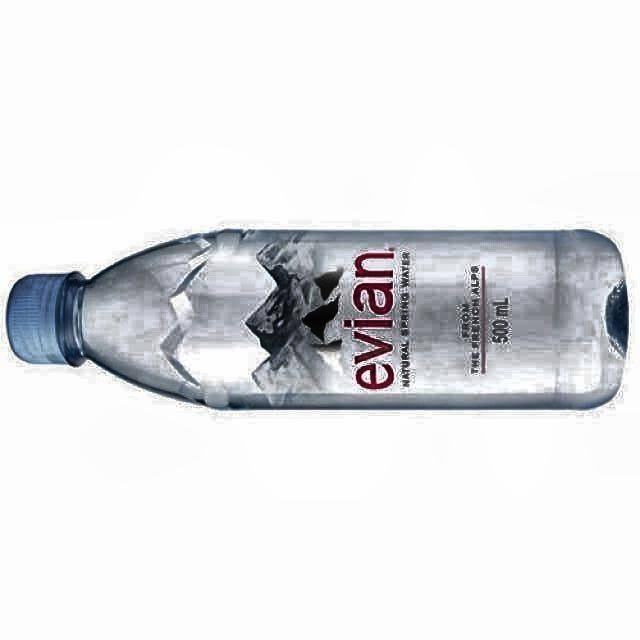plastic: (8, 230, 628, 408)
